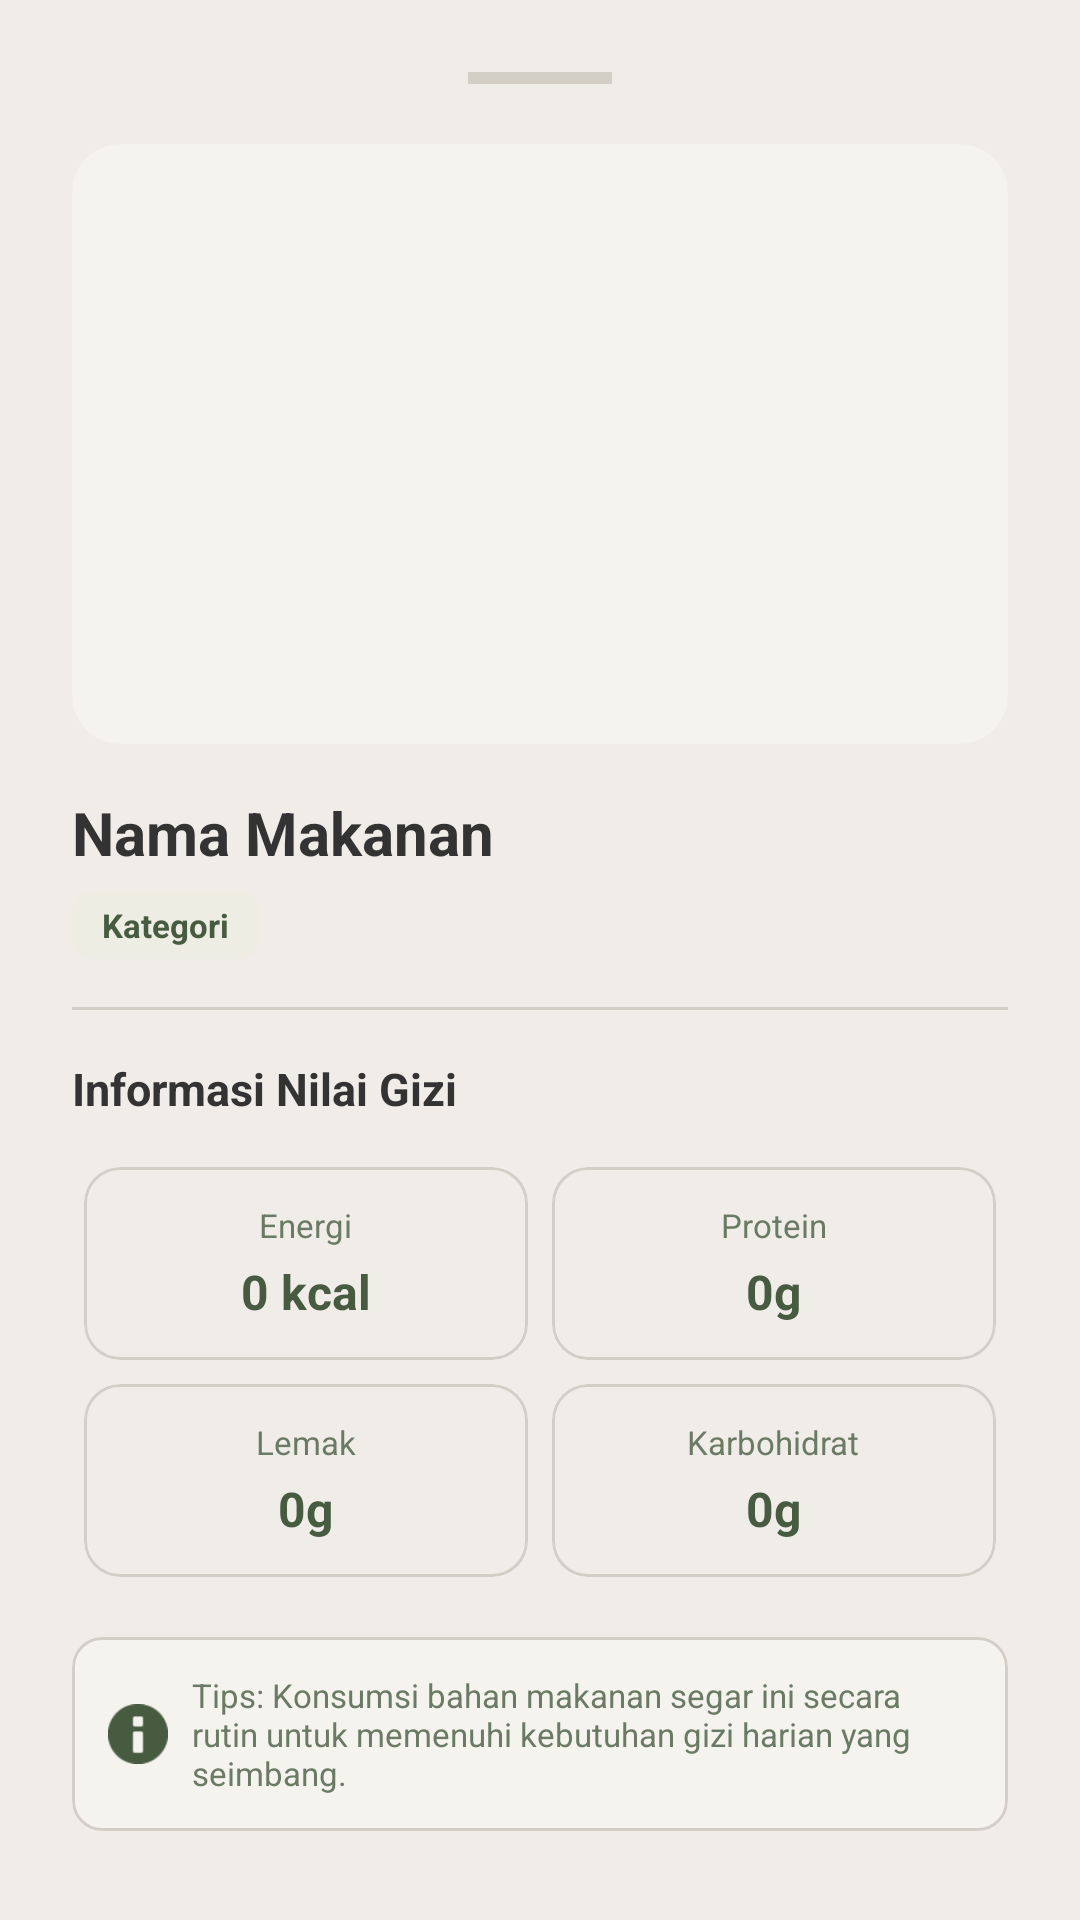

Named icons in this screenshot (1080*1920) and their bounding boxes, {"left": x1, "top": y1, "right": x2, "bottom": y2}:
info: {"left": 108, "top": 1704, "right": 168, "bottom": 1764}
